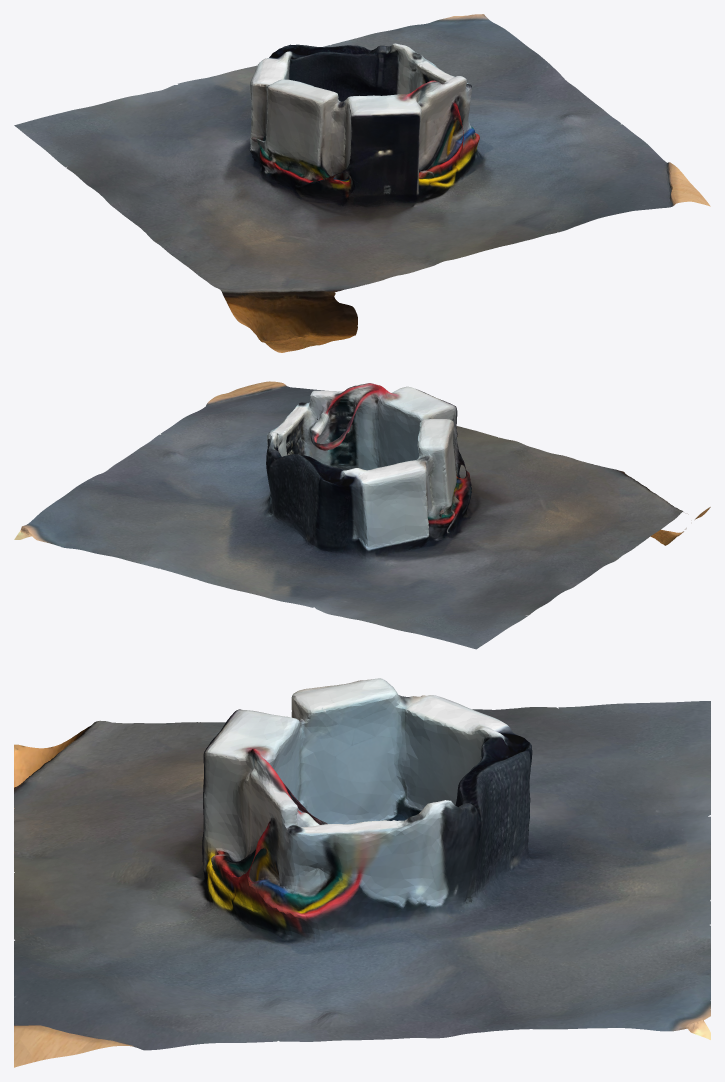
File: 260813_final_prototype_3d_scan.glb
The picture shows the model from 3 angles, top to bottom: view 1: azimuth 30°, elevation 25°; view 2: azimuth 150°, elevation 25°; view 3: azimuth 270°, elevation 25°; orthographic projection. The views are drawn at different scales.
Size of the model in its own units: 1.1 by 0.3557 by 0.9714.
1 material, 1 textured.
